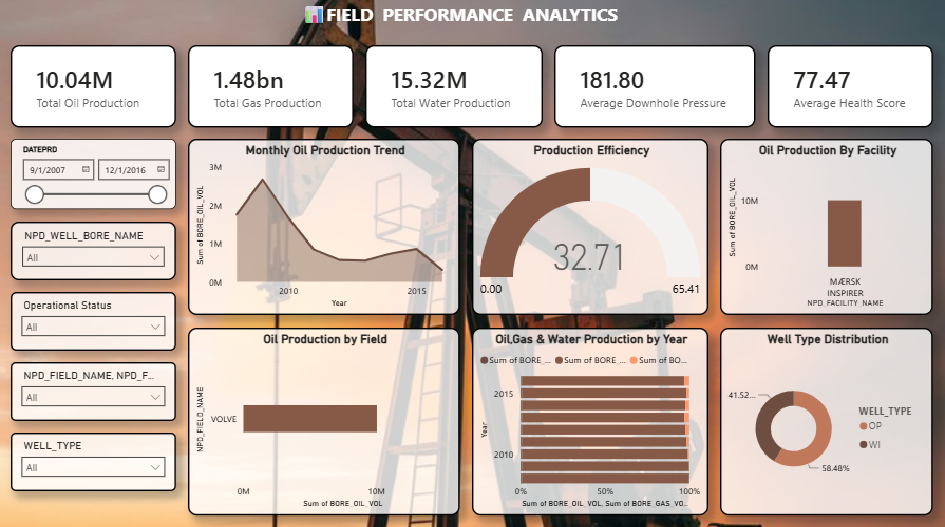

Layout of this report page (visuals, bound fields, positions):
{"tool":"powerbi","page":{"name":"Page 5","canvas":[1280,720],"ordinal":4},"visuals":[{"type":"cardVisual","fields":{"Data":["Volve production data.Total Oil Production"]},"box":[16,64,224,112],"z":0},{"type":"cardVisual","fields":{"Data":["Volve production data.Average Downhole Pressure"]},"box":[752,64,272,112],"z":1000},{"type":"cardVisual","fields":{"Data":["Volve production data.Total Water Production"]},"box":[496,64,240,112],"z":2000},{"type":"cardVisual","fields":{"Data":["Volve production data.Total Gas Production"]},"box":[256,64,224,112],"z":3000},{"type":"cardVisual","fields":{"Data":["IntelliWell_Final_Report.Average Health Score"]},"box":[1040,64,224,112],"z":4000},{"type":"lineChart","title":"Monthly Oil Production Trend","fields":{"Category":["IntelliWell_Final_Report.DATEPRD.Variation.Date Hierarchy.Year","IntelliWell_Final_Report.DATEPRD.Variation.Date Hierarchy.Quarter","IntelliWell_Final_Report.DATEPRD.Variation.Date Hierarchy.Month","IntelliWell_Final_Report.DATEPRD.Variation.Date Hierarchy.Day"],"Y":["Sum(IntelliWell_Final_Report.BORE_OIL_VOL)"]},"box":[256,192,368,240],"z":5000},{"type":"clusteredBarChart","title":"Oil Production by Field","fields":{"Category":["IntelliWell_Final_Report.NPD_FIELD_NAME"],"Y":["Sum(IntelliWell_Final_Report.BORE_OIL_VOL)"]},"box":[256,448,368,256],"z":6000},{"type":"clusteredColumnChart","title":"Oil Production By Facility","fields":{"Category":["IntelliWell_Final_Report.NPD_FACILITY_NAME"],"Y":["Sum(IntelliWell_Final_Report.BORE_OIL_VOL)"]},"box":[976,192,288,240],"z":7000},{"type":"donutChart","title":"Well Type Distribution","fields":{"Category":["IntelliWell_Final_Report.WELL_TYPE"],"Y":["CountNonNull(IntelliWell_Final_Report.WELL_TYPE)"]},"box":[976,448,288,256],"z":8000},{"type":"hundredPercentStackedBarChart","title":"Oil,Gas & Water Production by Year","fields":{"Category":["IntelliWell_Final_Report.DATEPRD.Variation.Date Hierarchy.Year","IntelliWell_Final_Report.DATEPRD.Variation.Date Hierarchy.Quarter","IntelliWell_Final_Report.DATEPRD.Variation.Date Hierarchy.Month","IntelliWell_Final_Report.DATEPRD.Variation.Date Hierarchy.Day"],"Y":["Sum(IntelliWell_Final_Report.BORE_OIL_VOL)","Sum(IntelliWell_Final_Report.BORE_GAS_VOL)","Sum(IntelliWell_Final_Report.BORE_WAT_VOL)"]},"box":[640,448,320,256],"z":9000},{"type":"gauge","fields":{"Y":["IntelliWell_Final_Report.Production Efficiency"]},"box":[640,192,320,240],"z":10000},{"type":"slicer","fields":{"Values":["IntelliWell_Final_Report.DATEPRD"]},"box":[16,192,224,96],"z":11000},{"type":"slicer","fields":{"Values":["IntelliWell_Final_Report.Operational Status"]},"box":[16,400,224,80],"z":13000},{"type":"slicer","fields":{"Values":["IntelliWell_Final_Report.NPD_WELL_BORE_NAME"]},"box":[16,304,224,80],"z":14000},{"type":"slicer","fields":{"Values":["IntelliWell_Final_Report.WELL_TYPE"]},"box":[16,592,224,80],"z":15000},{"type":"slicer","fields":{"Values":["IntelliWell_Final_Report.NPD_FIELD_NAME","IntelliWell_Final_Report.NPD_FACILITY_NAME"]},"box":[16,496,224,80],"z":16000},{"type":"textbox","box":[96,0,1056,48],"z":16001}]}

Visuals, with their boxes in screenshot pixels (x1, y1, x2, y2), scaled from the page's 1280x720 canvas onto the 945x527 screenshot:
cardVisual - Volve production data.Total Oil Production: [12,47,177,129]
cardVisual - Volve production data.Average Downhole Pressure: [555,47,756,129]
cardVisual - Volve production data.Total Water Production: [366,47,543,129]
cardVisual - Volve production data.Total Gas Production: [189,47,354,129]
cardVisual - IntelliWell_Final_Report.Average Health Score: [768,47,933,129]
"Monthly Oil Production Trend" lineChart: [189,141,461,316]
"Oil Production by Field" clusteredBarChart: [189,328,461,515]
"Oil Production By Facility" clusteredColumnChart: [721,141,933,316]
"Well Type Distribution" donutChart: [721,328,933,515]
"Oil,Gas & Water Production by Year" hundredPercentStackedBarChart: [472,328,709,515]
gauge - IntelliWell_Final_Report.Production Efficiency: [472,141,709,316]
slicer - IntelliWell_Final_Report.DATEPRD: [12,141,177,211]
slicer - IntelliWell_Final_Report.Operational Status: [12,293,177,351]
slicer - IntelliWell_Final_Report.NPD_WELL_BORE_NAME: [12,223,177,281]
slicer - IntelliWell_Final_Report.WELL_TYPE: [12,433,177,492]
slicer - IntelliWell_Final_Report.NPD_FIELD_NAME x IntelliWell_Final_Report.NPD_FACILITY_NAME: [12,363,177,422]
textbox: [71,0,850,35]
